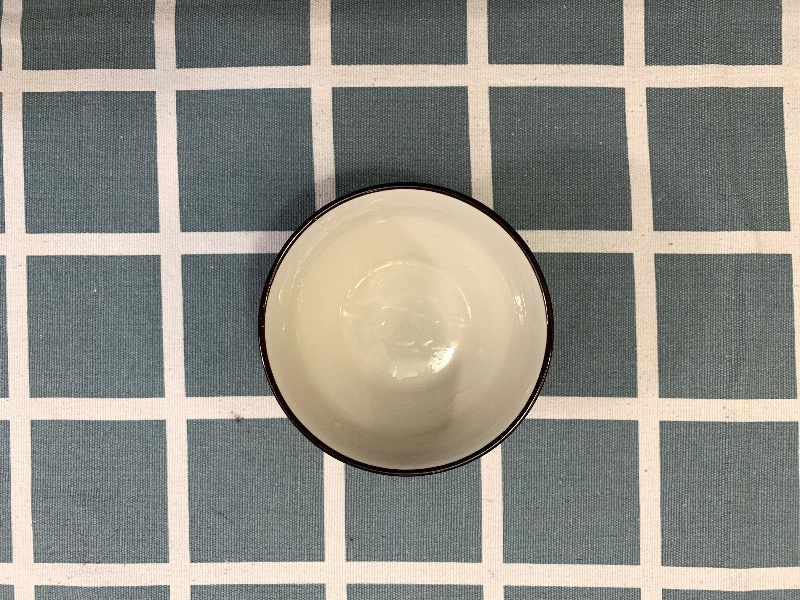bowl_small: (248, 173, 562, 483)
